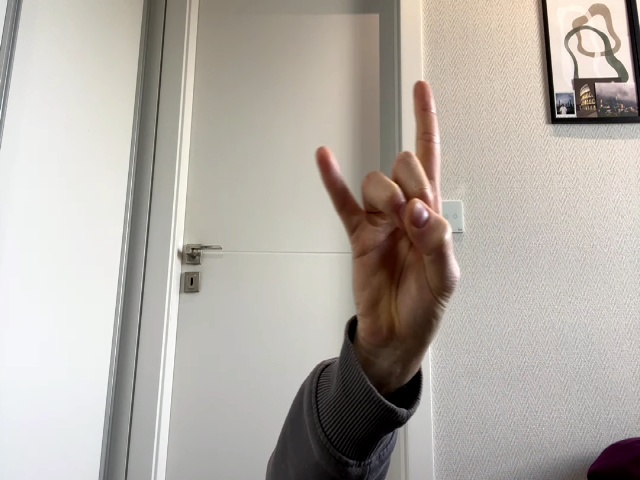Y: (316, 81, 460, 325)
